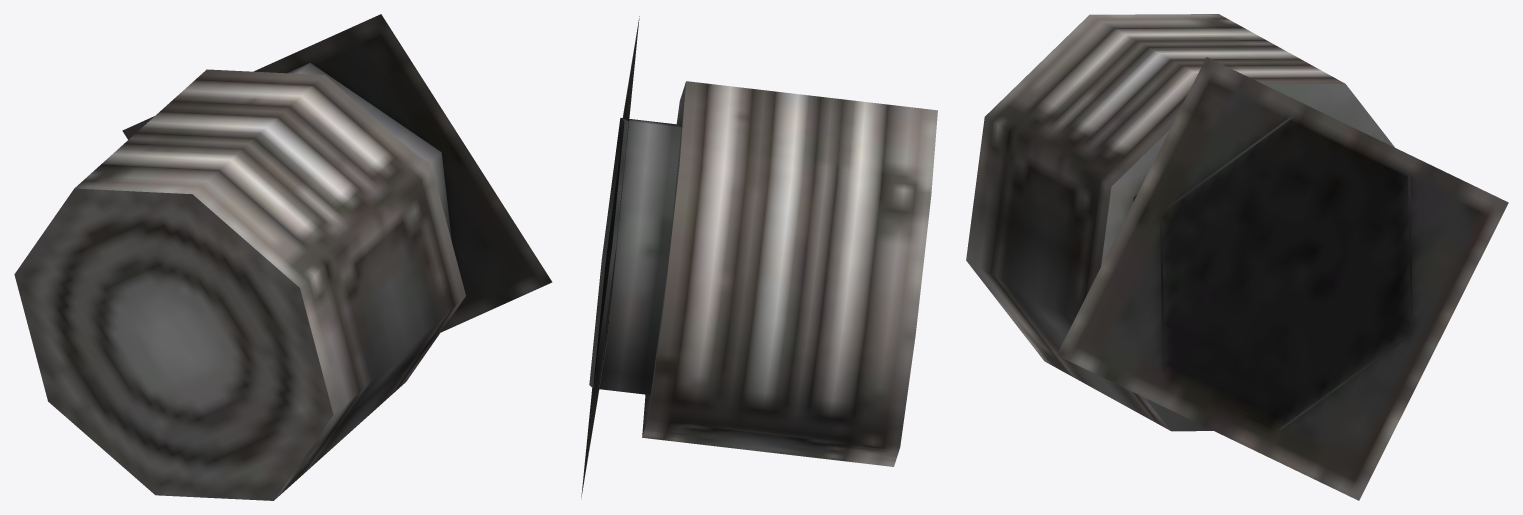
3 renders of one model, left to right at view 1: azimuth 30°, elevation 25°; view 2: azimuth 150°, elevation 25°; view 3: azimuth 270°, elevation 25°, orthographic. The views are drawn at different scales.
Parts seen in each view (by area): view 1: Graviton charges | extracted from heavy-grav-cannon; view 2: Graviton charges | extracted from heavy-grav-cannon; view 3: Graviton charges | extracted from heavy-grav-cannon.
Boxes of the visible parts, x1,y1,x2,y2 form: Graviton charges | extracted from heavy-grav-cannon: (14, 14, 552, 500); Graviton charges | extracted from heavy-grav-cannon: (581, 16, 937, 499); Graviton charges | extracted from heavy-grav-cannon: (966, 14, 1508, 500).
Size of the model in its own units: 1.54 by 1.51 by 1.65.
Materials: 1 (1 with a texture image).
